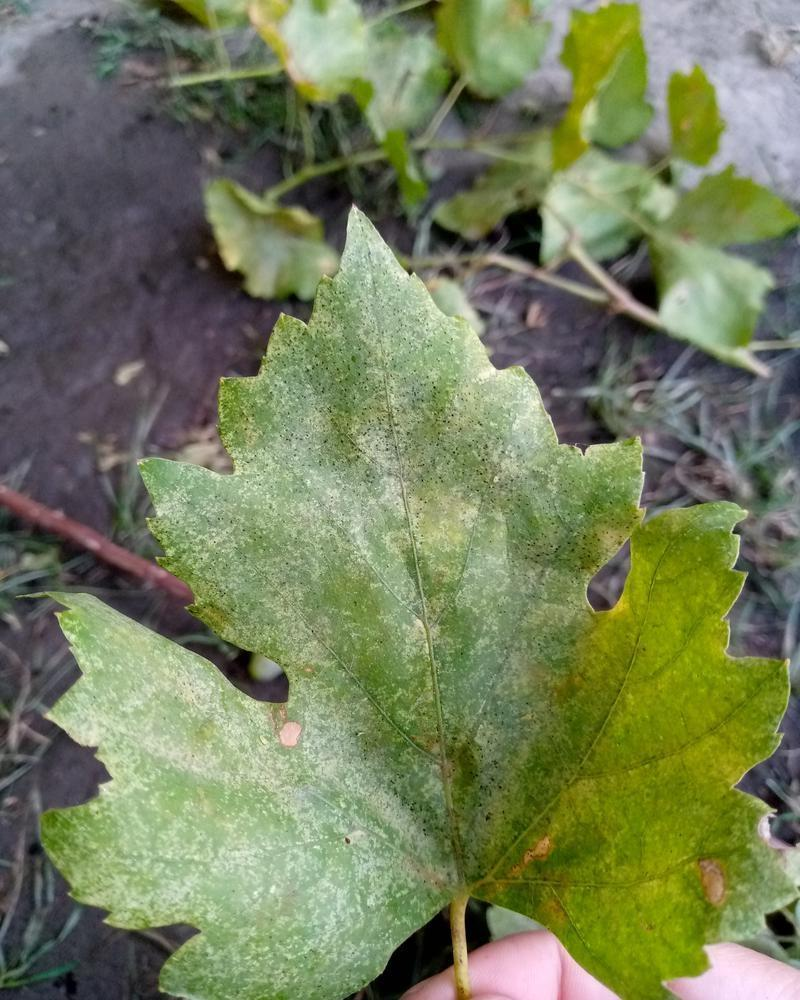Powdery-Mildew: (63, 608, 412, 996), (322, 218, 564, 577), (195, 413, 407, 628), (514, 794, 627, 946), (677, 842, 777, 942), (251, 703, 314, 766)
